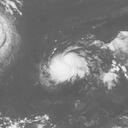cyclone: (43, 50, 88, 83)
